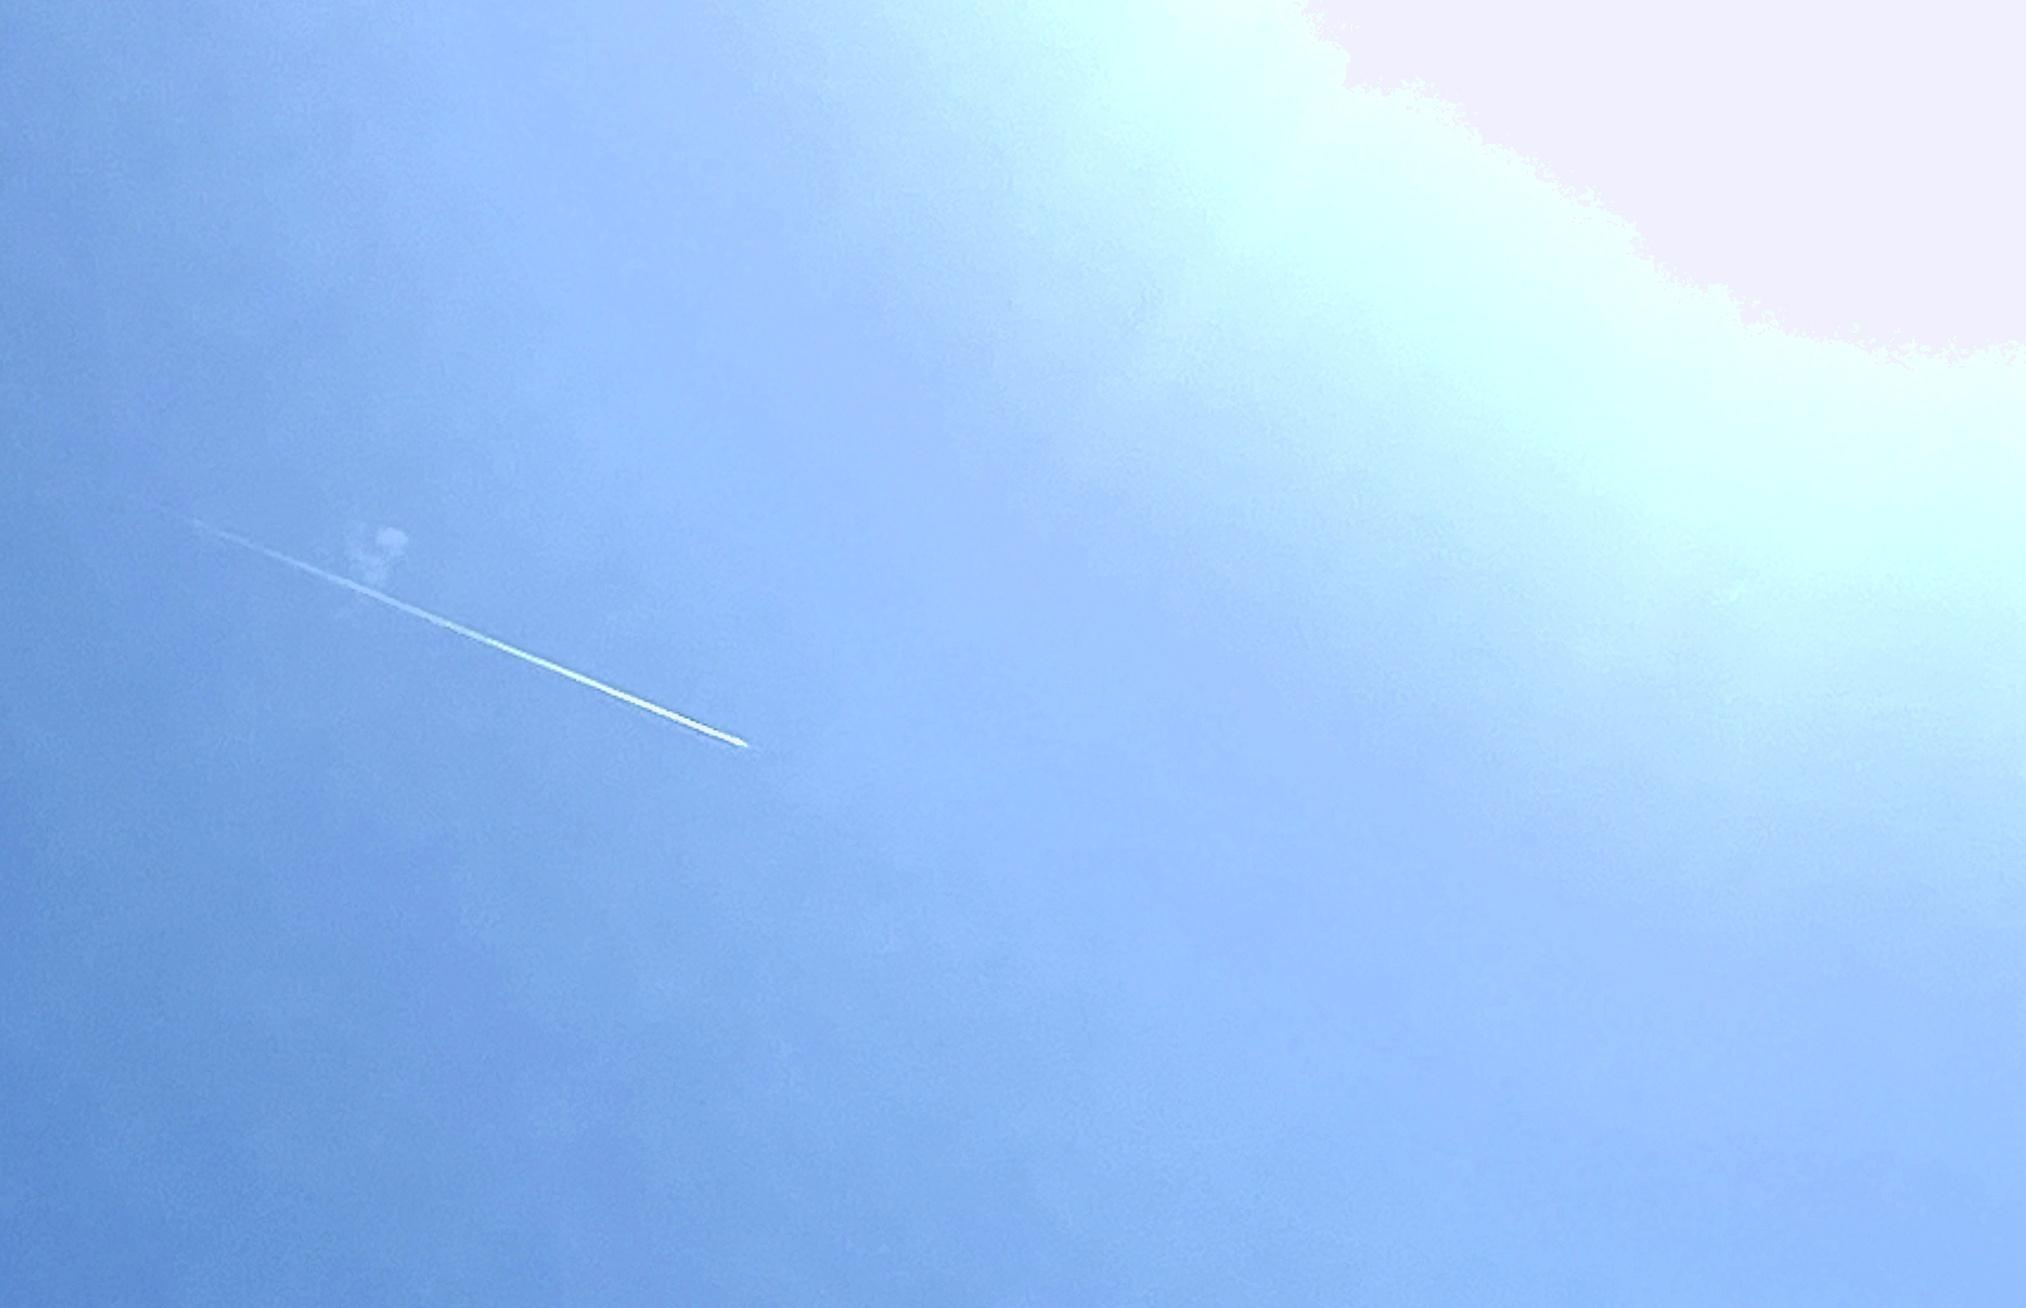Plane: (304, 546, 774, 778)
